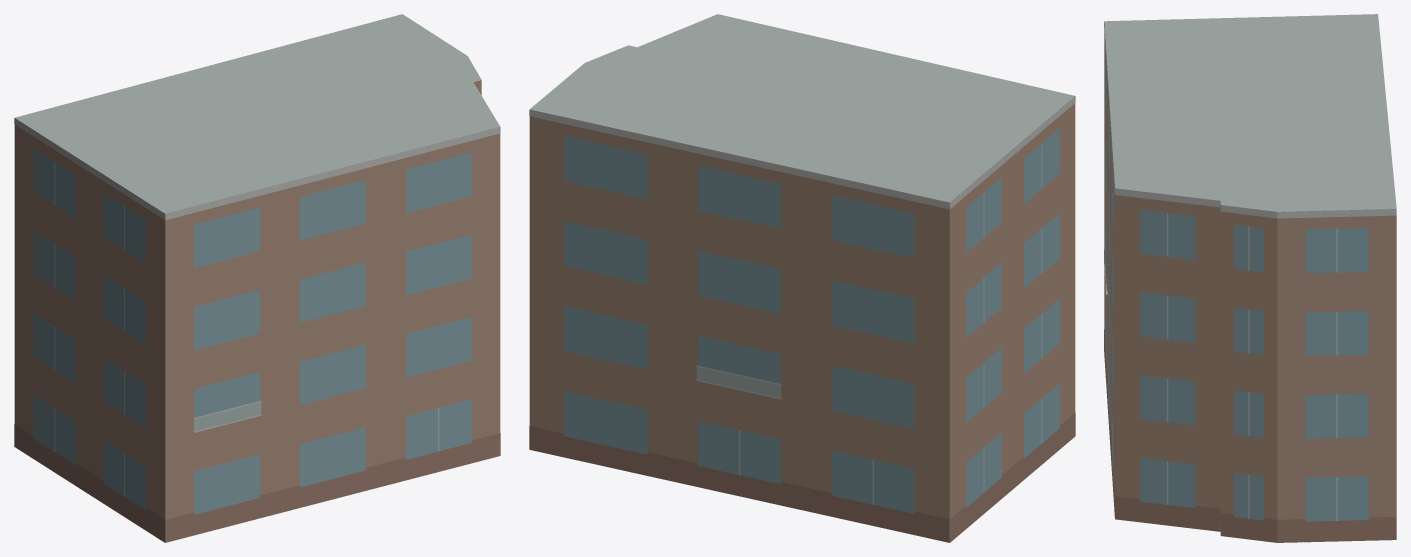
Rendered from survey-upis-32953577.glb.
The picture shows the model from 3 angles, left to right: view 1: azimuth 30°, elevation 25°; view 2: azimuth 150°, elevation 25°; view 3: azimuth 270°, elevation 25°; orthographic projection. The views are drawn at different scales.
Parts seen in each view (by area): view 1: survey-upis-32953577.tmp; view 2: survey-upis-32953577.tmp; view 3: survey-upis-32953577.tmp.
Part boxes in pixels (bbox=[...]): survey-upis-32953577.tmp: bbox=[14, 14, 500, 542]; survey-upis-32953577.tmp: bbox=[529, 14, 1075, 542]; survey-upis-32953577.tmp: bbox=[1104, 14, 1396, 542].
Bounding box in the file's own units: 15.65 × 12.2 × 9.79.
